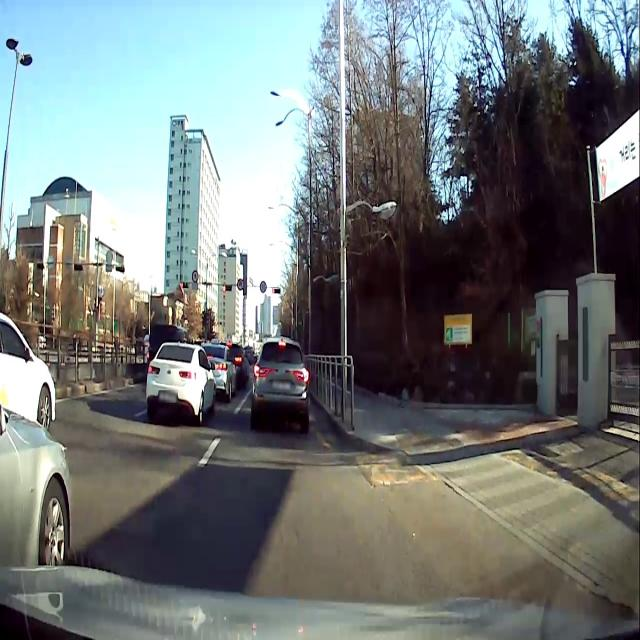Red Light: (179, 281, 184, 289), (222, 285, 226, 292), (272, 288, 275, 294)
